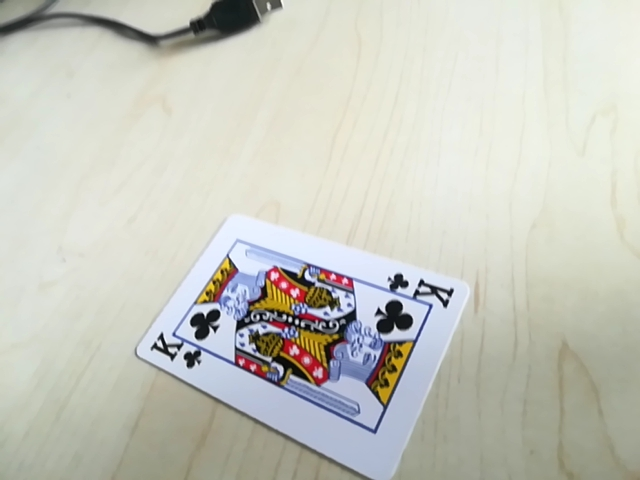mh k: (386, 270, 459, 307), (145, 337, 209, 373)
